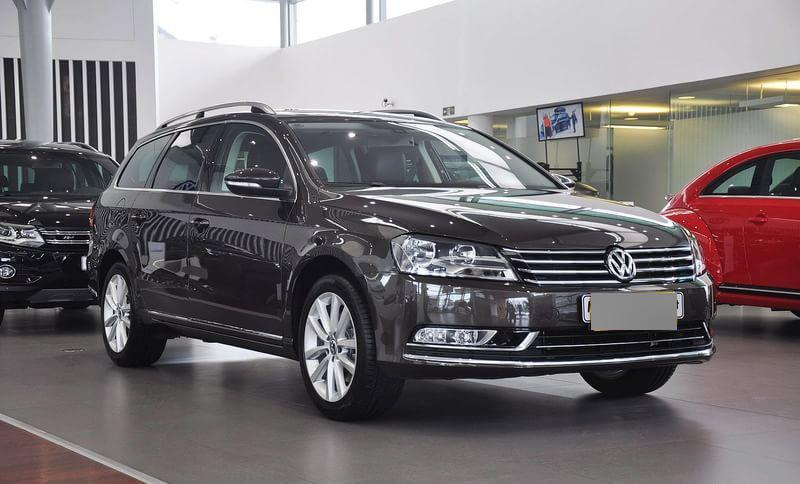Wagon: (85, 99, 718, 424)
